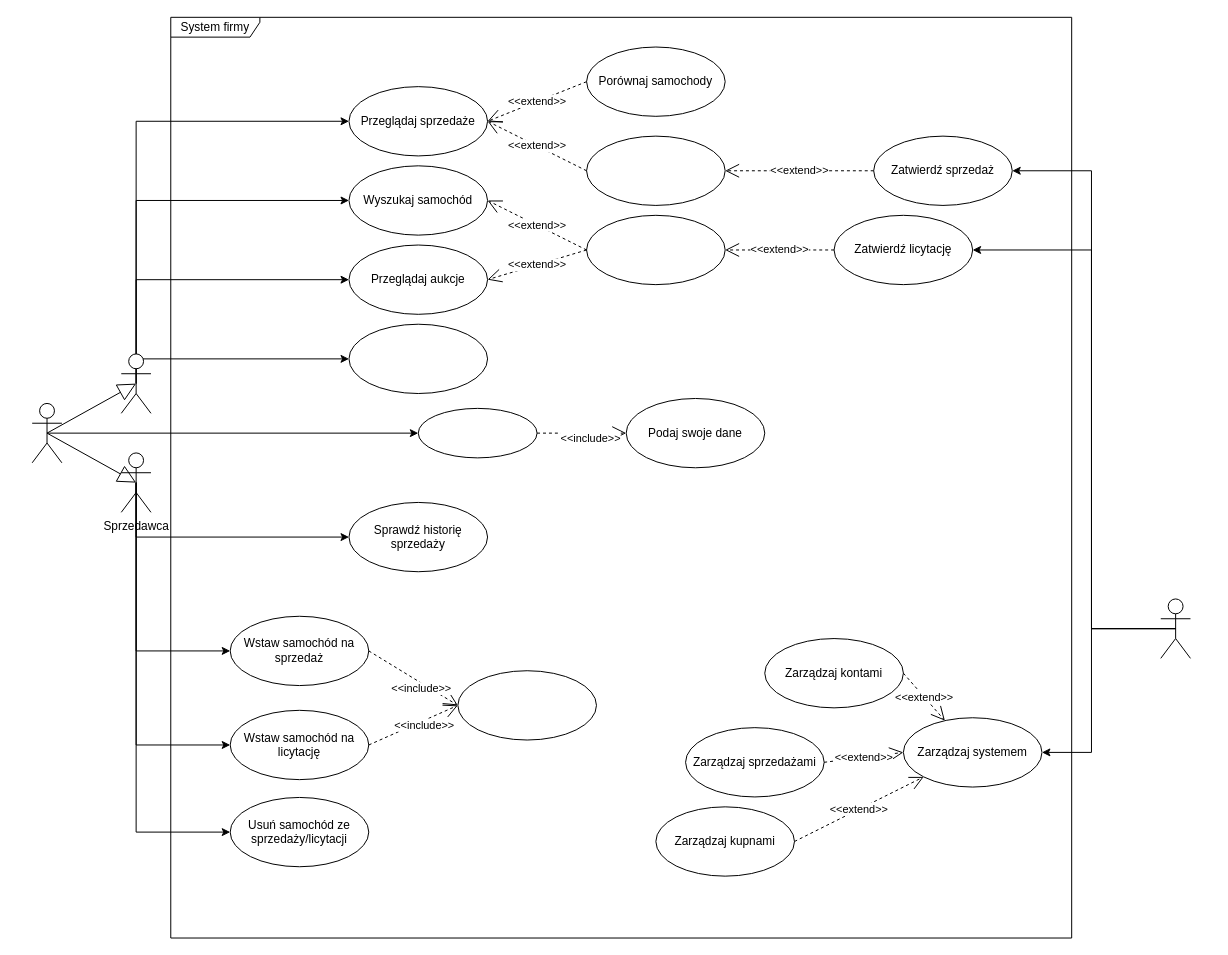
This 1228x955 diagram has some shape labels left out. The shapes that lost their labels are listed below. From the top down, each one's box as (x1, y1, x2, y2) in pixels, then its label:
(586, 135, 725, 205): Kup samochód
(586, 214, 725, 285): Licytuj
(348, 323, 488, 394): Sprawdź historię kupna
(120, 353, 151, 413): Klient
(31, 402, 62, 463): Użytkownik
(417, 407, 537, 458): załóż konto
(1160, 598, 1190, 658): Administrator
(457, 670, 596, 740): Umieść opłatę
